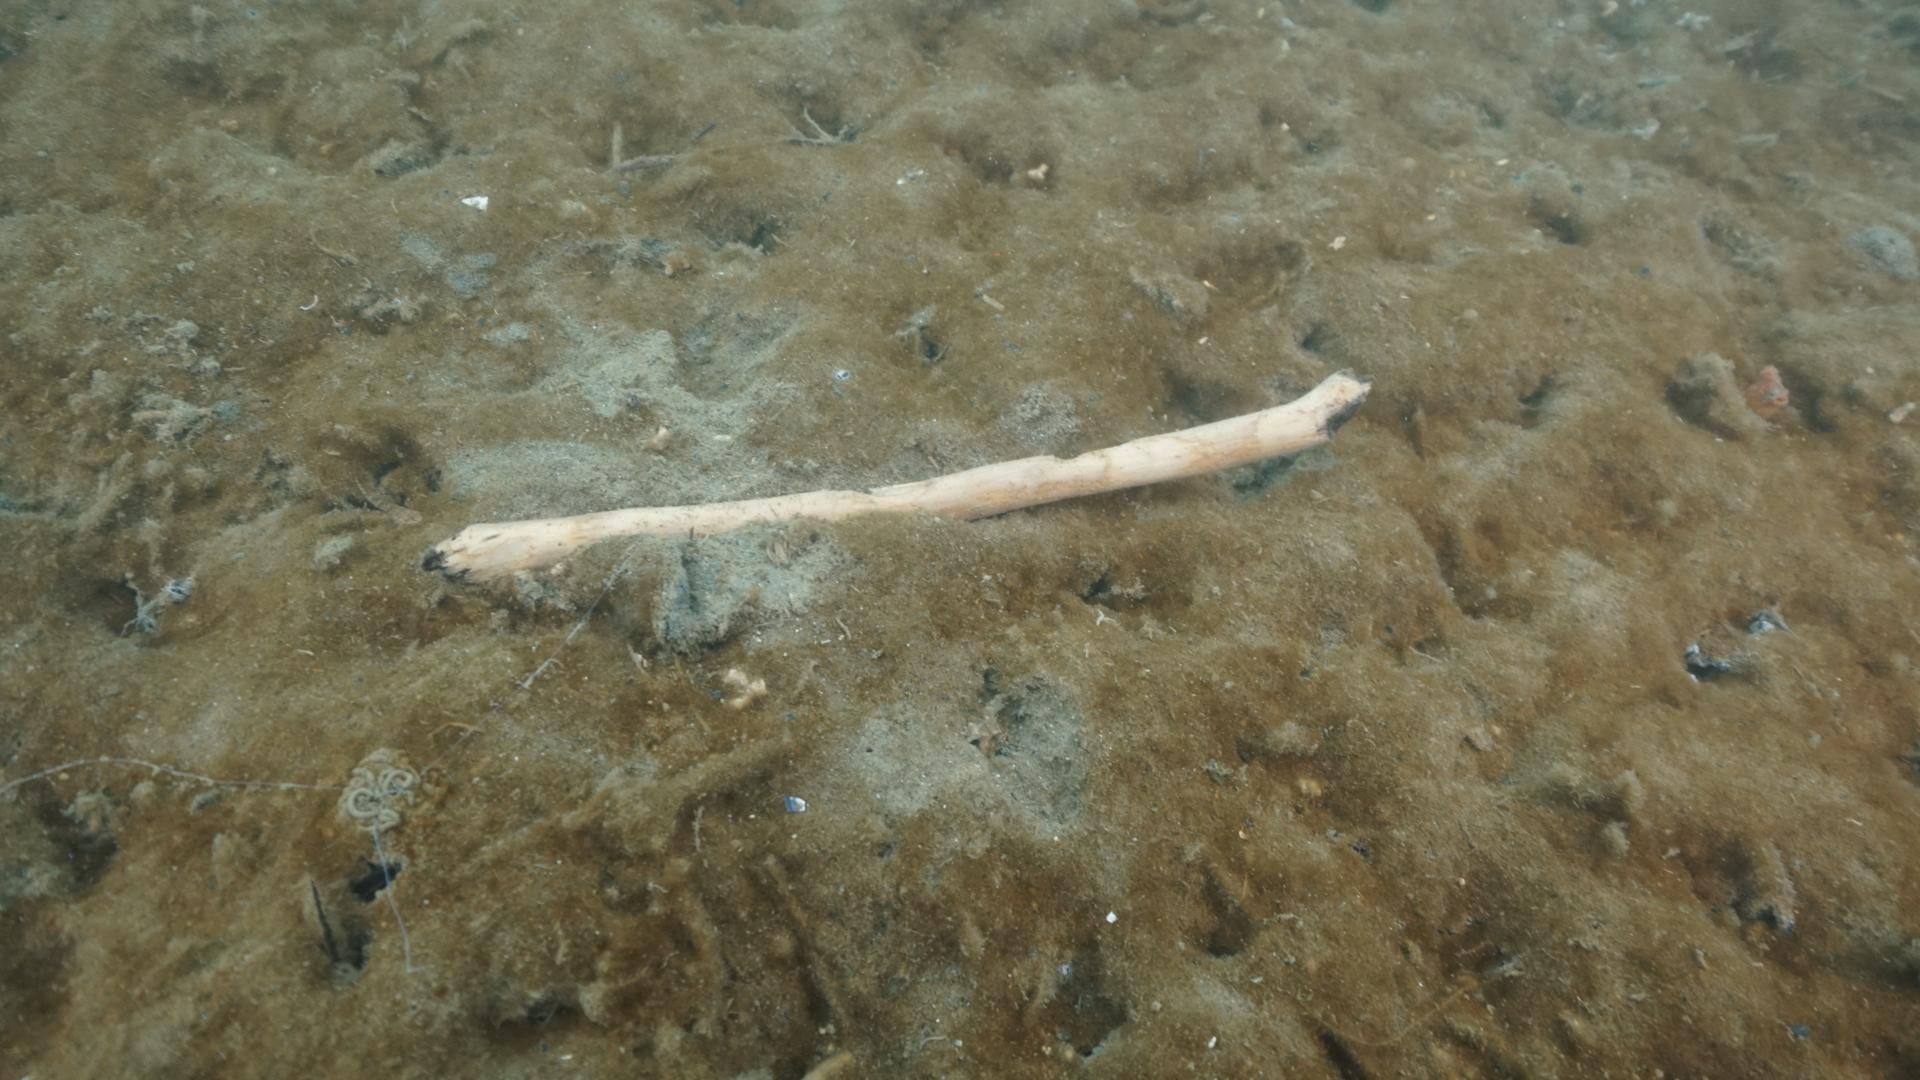wood: (419, 364, 1373, 613)
